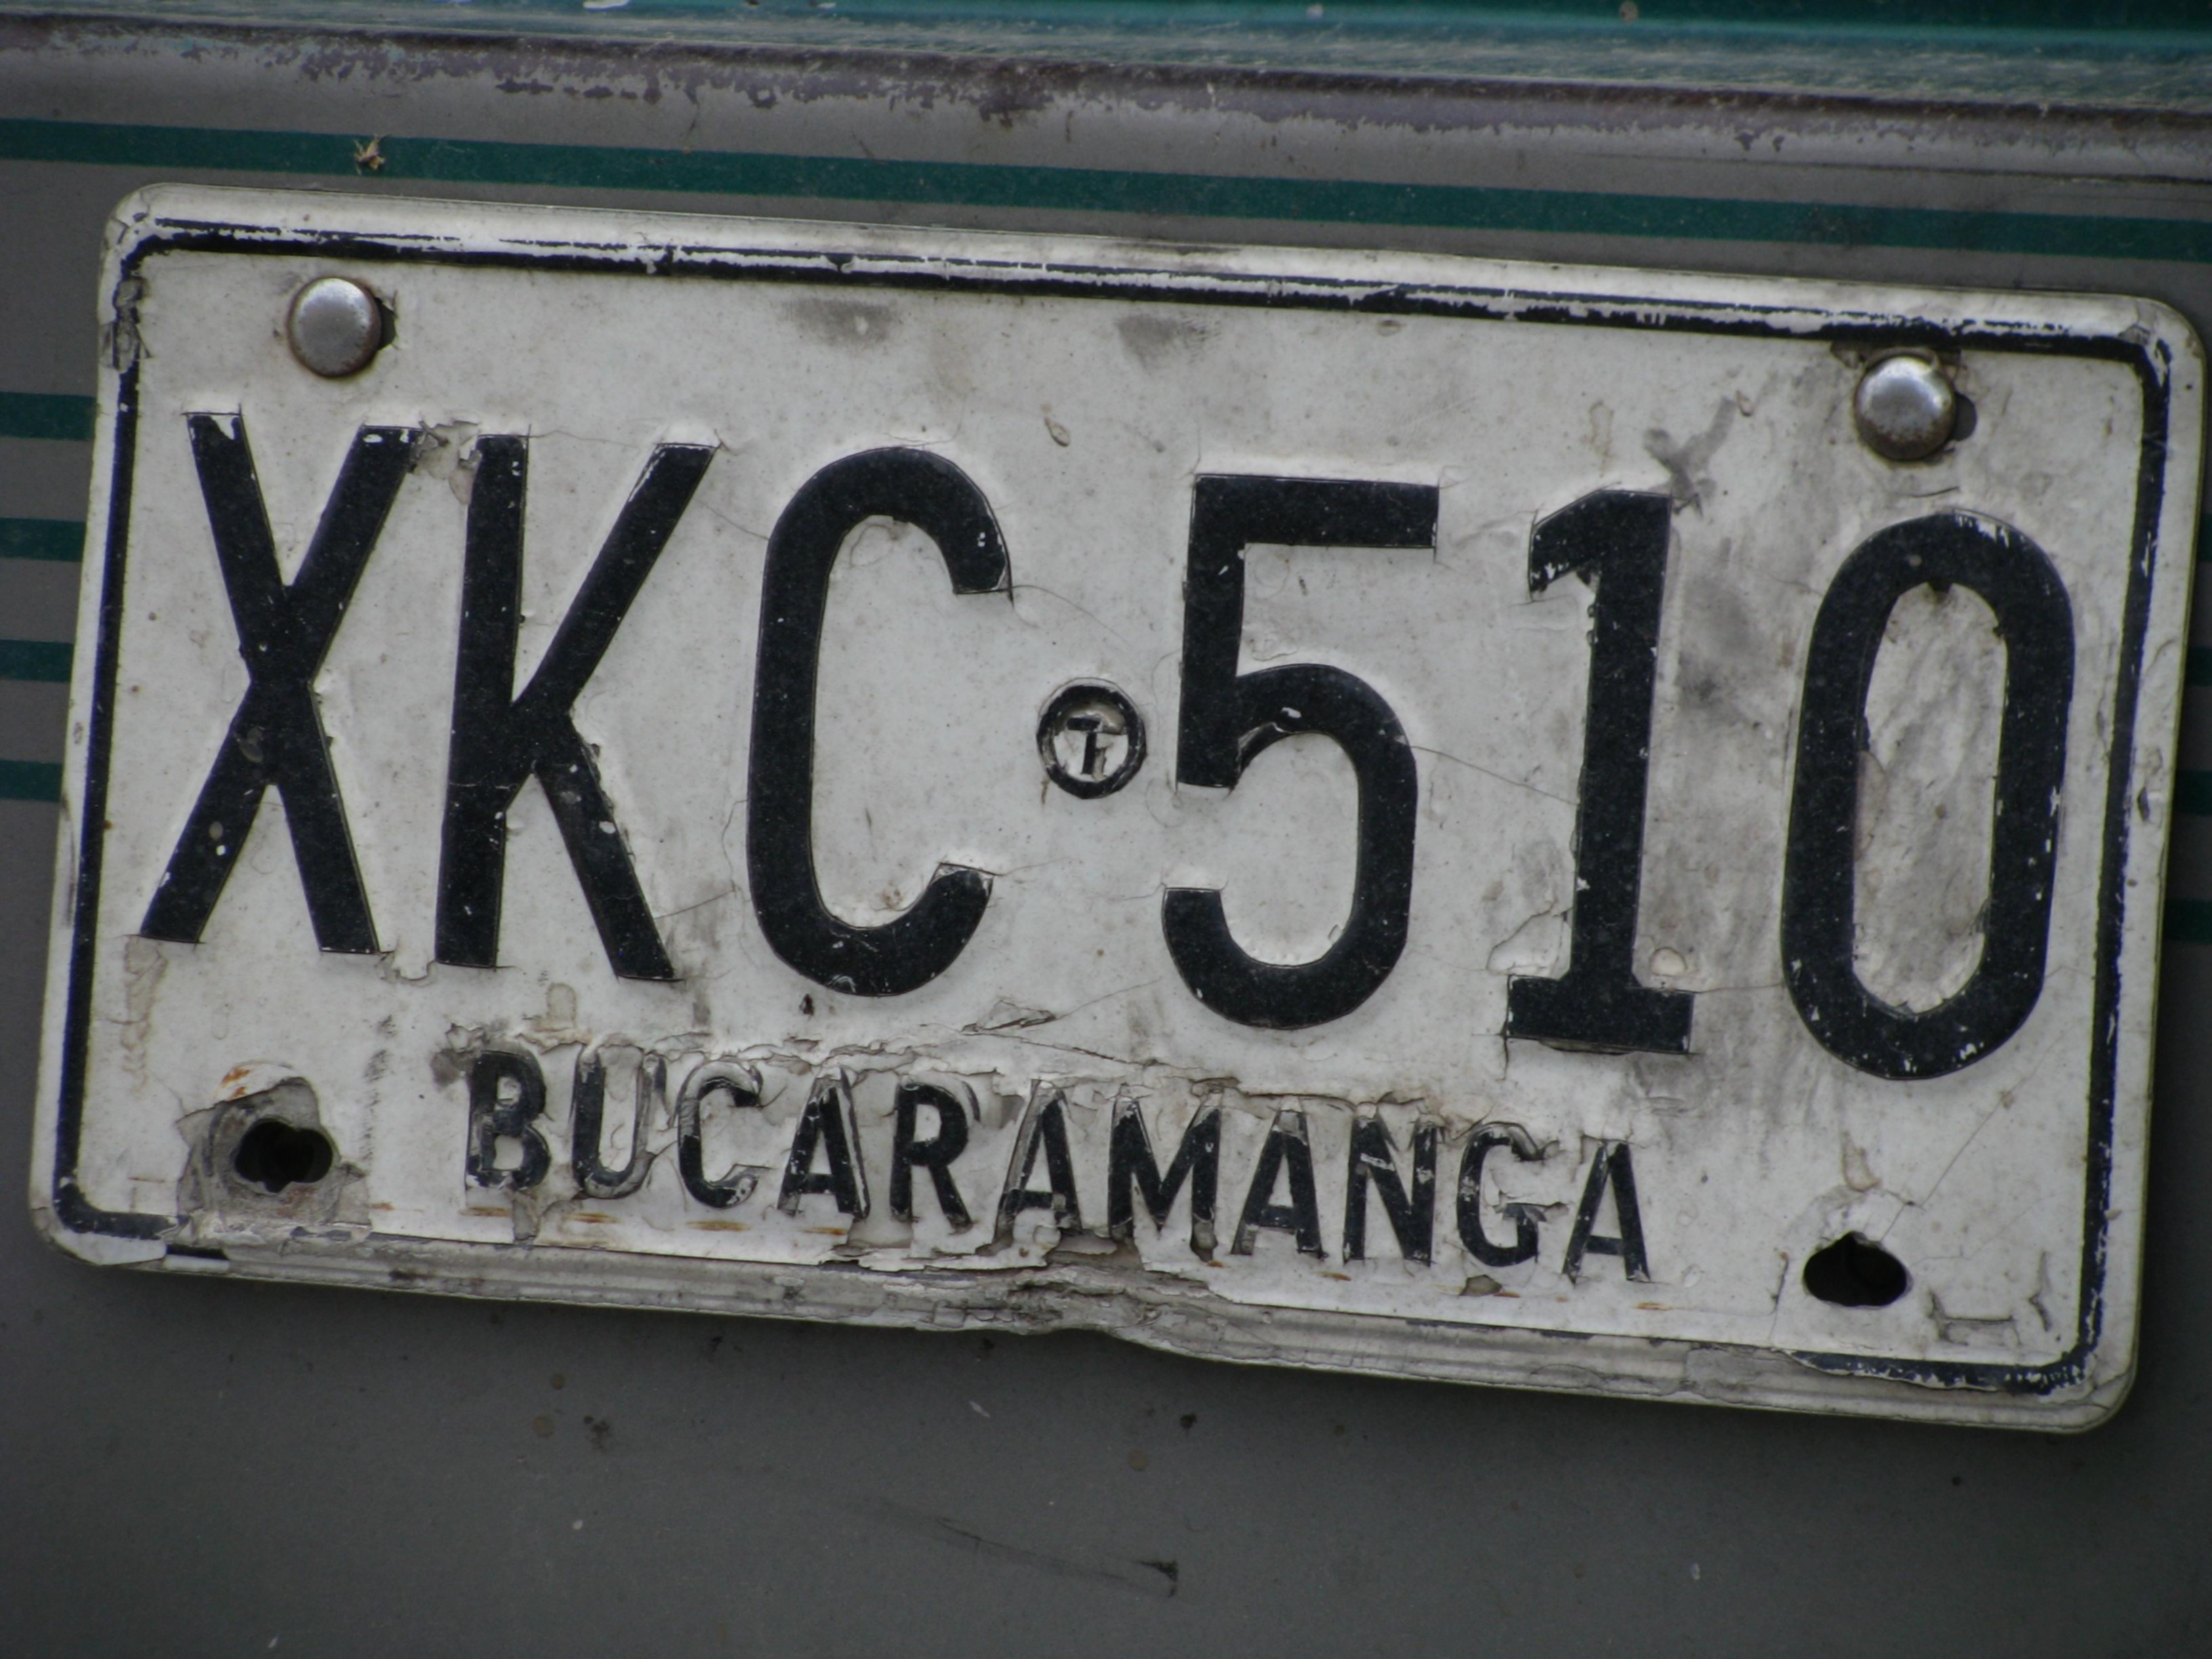placas: (14, 165, 2198, 1446)
